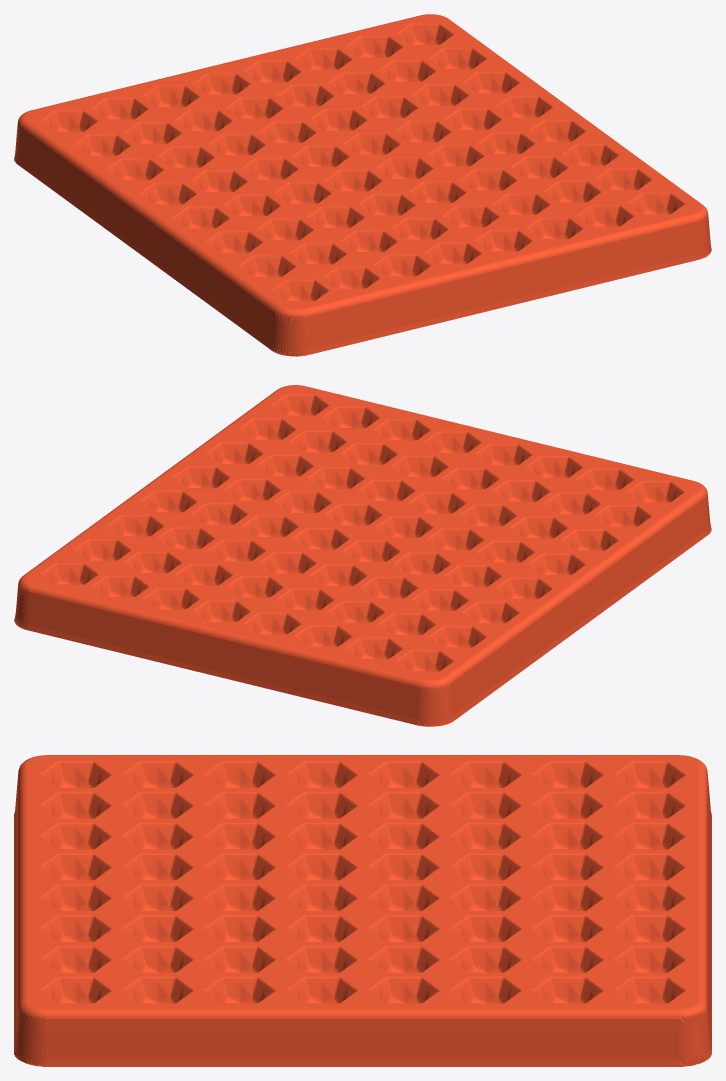
Rendered from mold.glb.
The picture shows the model from 3 angles, top to bottom: view 1: azimuth 30°, elevation 25°; view 2: azimuth 150°, elevation 25°; view 3: azimuth 270°, elevation 25°; orthographic projection. The views are drawn at different scales.
Visible parts, largest first — view 1: geometry_0; view 2: geometry_0; view 3: geometry_0.
Boxes of the visible parts, left/top/right/bottom form: geometry_0: left=14, top=14, right=711, bottom=356; geometry_0: left=14, top=385, right=711, bottom=726; geometry_0: left=14, top=755, right=711, bottom=1066.
Bounding box in the file's own units: 0.169 × 0.0156 × 0.1886.
